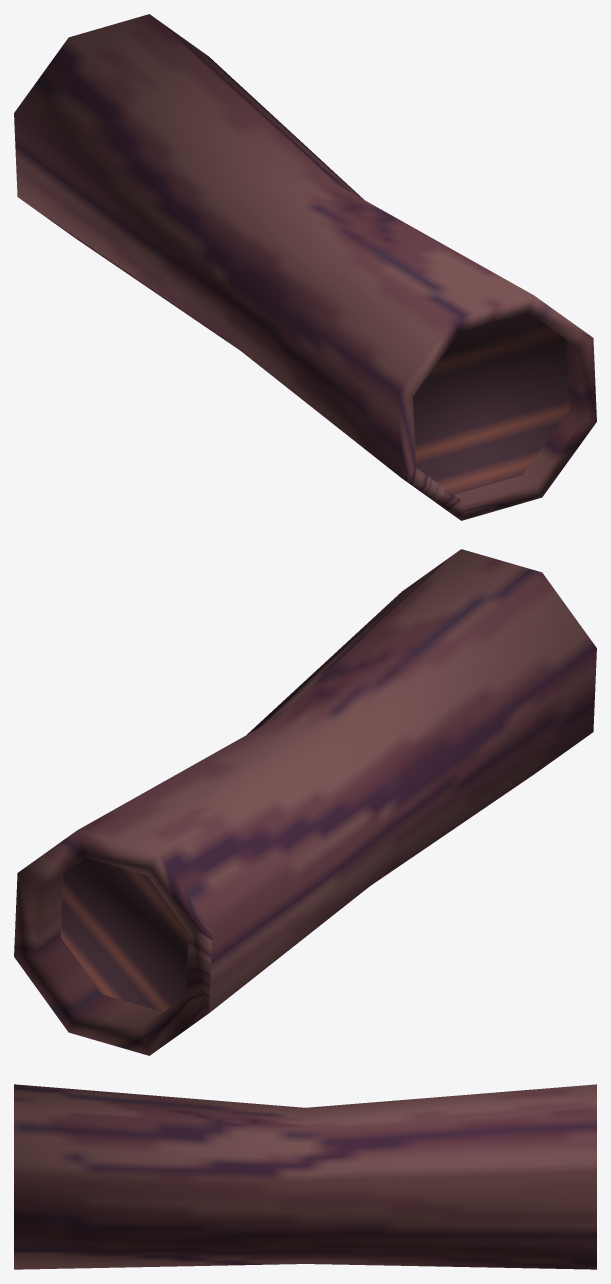
Rendered from TroncoDeArvore.fbx.
The picture shows the model from 3 angles, top to bottom: view 1: azimuth 30°, elevation 25°; view 2: azimuth 150°, elevation 25°; view 3: azimuth 270°, elevation 25°; orthographic projection. The views are drawn at different scales.
Visible parts, largest first — view 1: TroncoDeArvore; view 2: TroncoDeArvore; view 3: TroncoDeArvore.
Part boxes in pixels (x1=…): TroncoDeArvore: x1=14, y1=14, x2=596, y2=520; TroncoDeArvore: x1=14, y1=549, x2=596, y2=1055; TroncoDeArvore: x1=14, y1=1084, x2=596, y2=1269.
Size of the model in its own units: 77.24 by 259 by 77.24.
